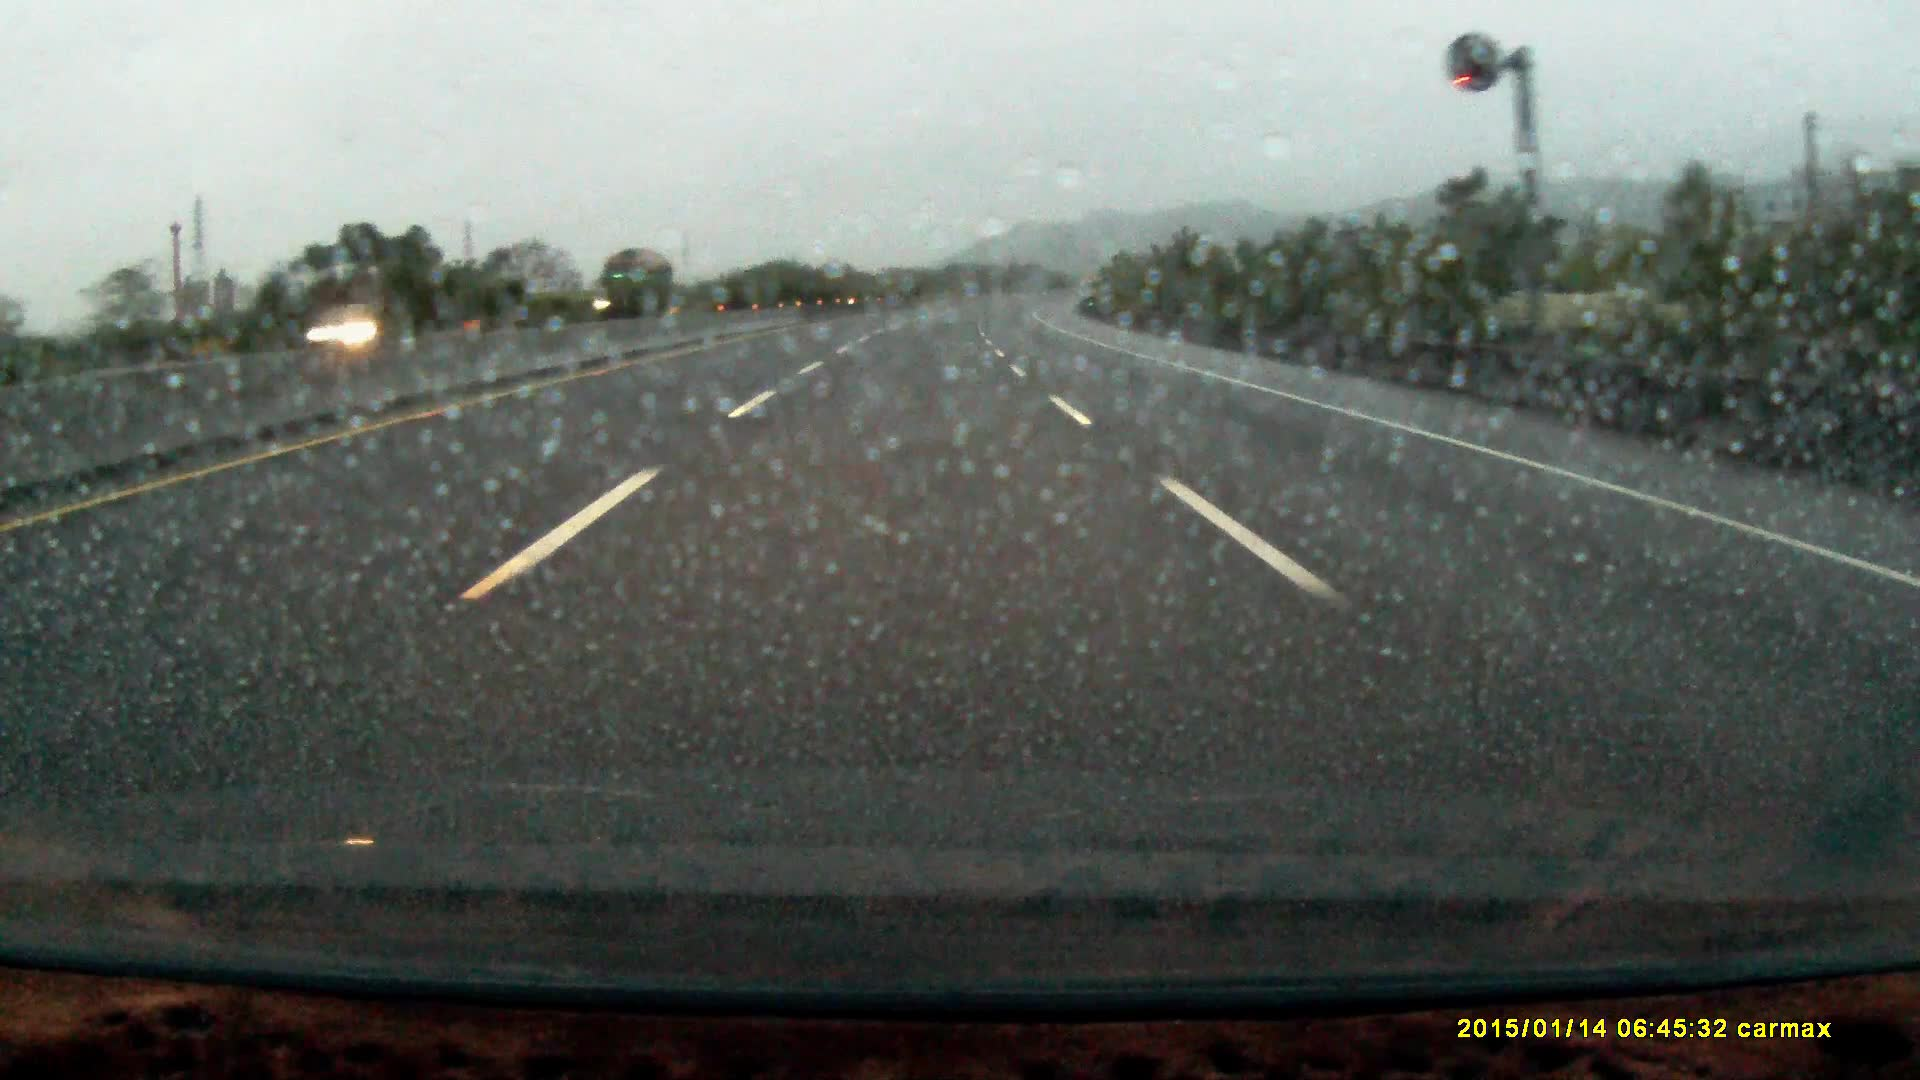vehicle: (591, 251, 678, 320), (295, 305, 425, 351)
